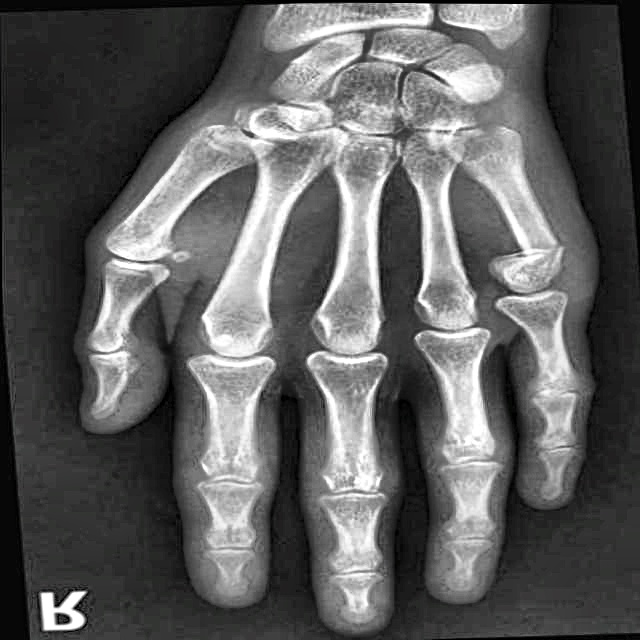Segmental: (489, 222, 593, 309)
